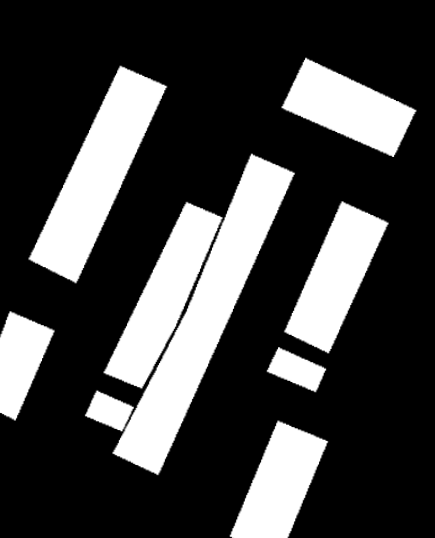parkingspot: (113, 154, 295, 475), (29, 66, 167, 283), (104, 202, 223, 388), (284, 201, 389, 353), (281, 58, 416, 157), (230, 421, 328, 538), (0, 311, 55, 421), (267, 347, 326, 392), (85, 391, 134, 431)
